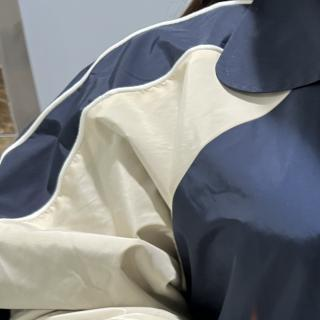fire: (243, 313, 262, 320)
